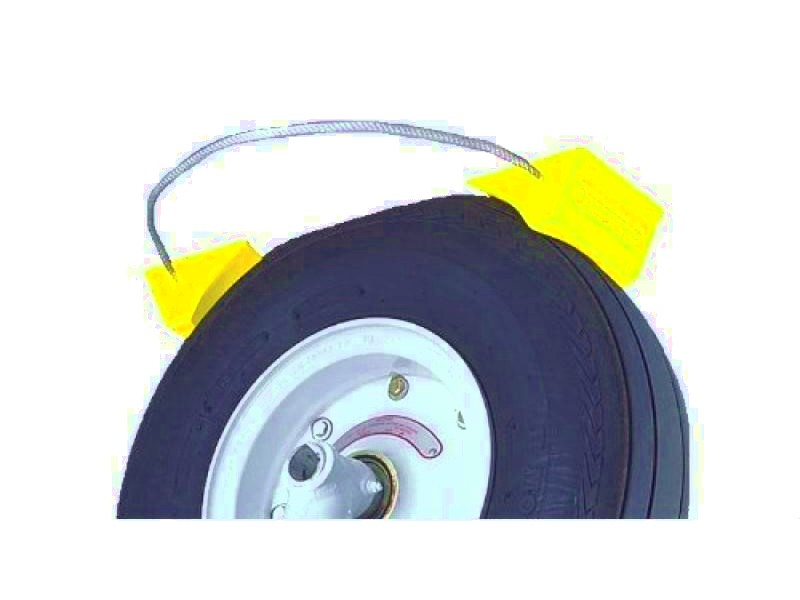chock: (465, 146, 665, 289), (143, 240, 282, 350)
wheel: (114, 192, 692, 517)
